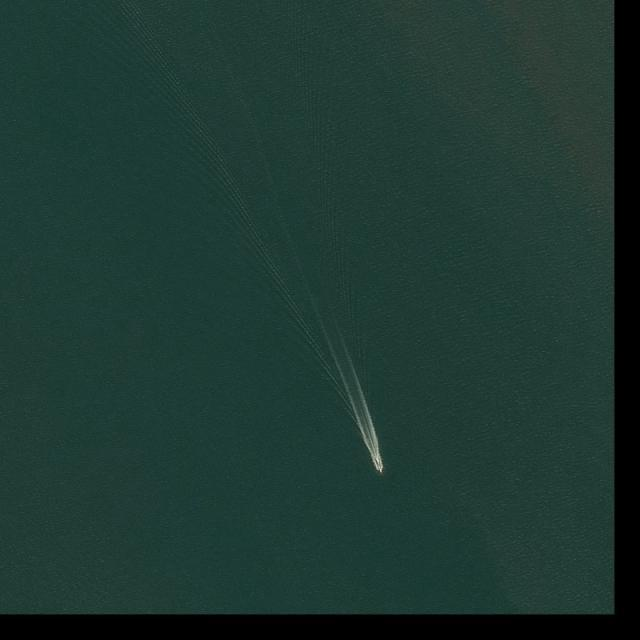ship: (378, 466, 383, 474)
